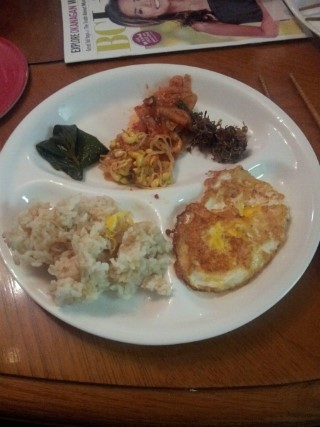fried egg: (177, 173, 281, 294)
